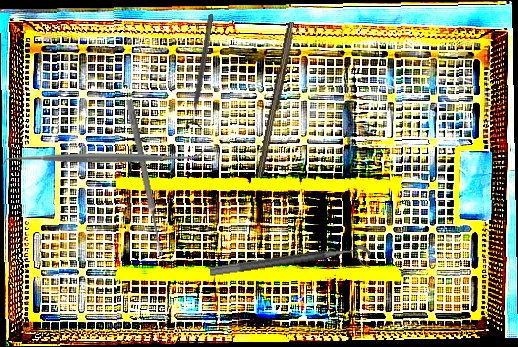Fixation Ring: (209, 243, 372, 291), (184, 12, 221, 132)
Scalpel Handle: (255, 20, 298, 180)
Spatula Surgical: (1, 146, 207, 169)
Surgical Spoon: (124, 98, 166, 258)
